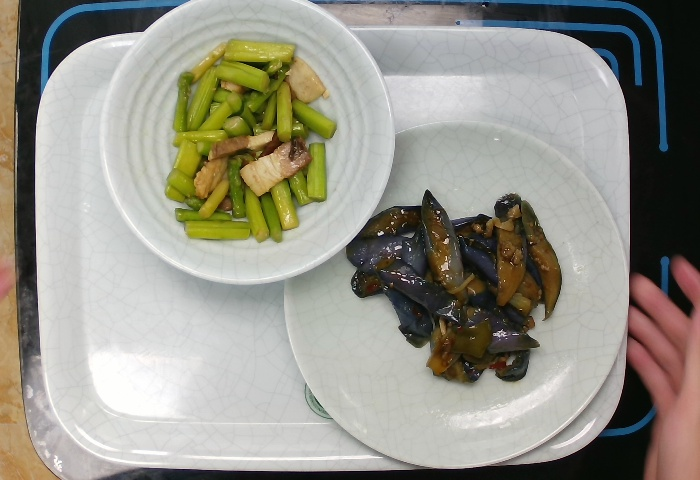JYsf-Da_Yuan_Pan: (280, 118, 633, 471)
JYsf-Xiao_Tang_Wan: (97, 1, 397, 287)
